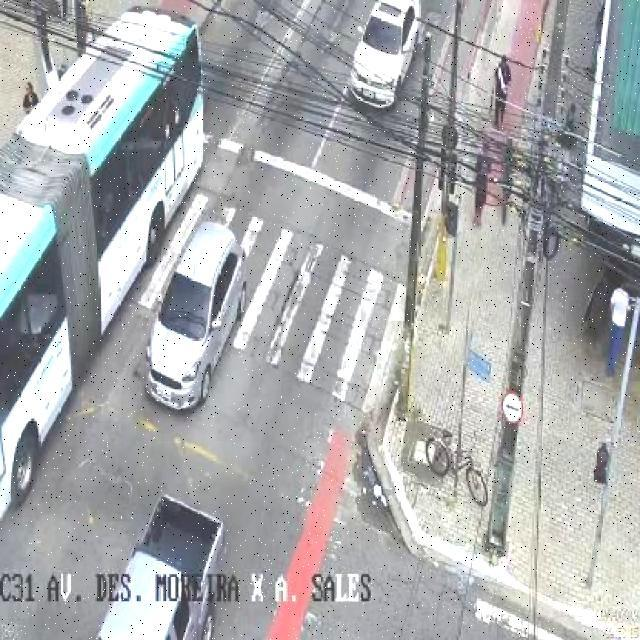Bus: (0, 3, 210, 523)
Car: (140, 221, 250, 413), (347, 0, 425, 111)
Cycle: (426, 430, 489, 506)
Truck: (93, 493, 228, 640)
